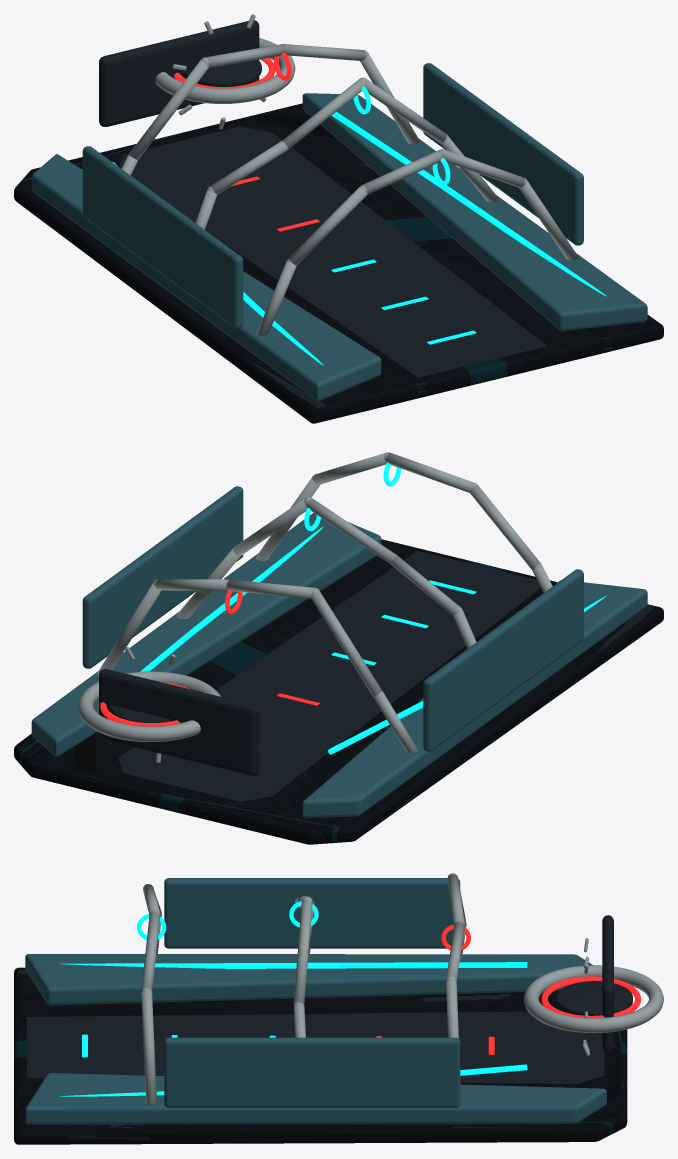
The model's file is pulseBraidedReactorWorldV6.candidate.glb.
3 renders of one model, top to bottom at view 1: azimuth 30°, elevation 25°; view 2: azimuth 150°, elevation 25°; view 3: azimuth 270°, elevation 25°, orthographic. The views are drawn at different scales.
Parts seen in each view (by area): view 1: reactor recessed central cadence trench, reactor continuous textured exchange deck, reactor rising blade shoulder 1, reactor rising blade shoulder -1, reactor full height armor shell -1, reactor full height armor shell 1, reactor terminal armored backstop, reactor terminal breach outer crown, reactor asymmetric torsion knot 2 segment 1, reactor terminal lightless well, reactor asymmetric torsion knot 1 segment 2, reactor asymmetric torsion knot 0 segment 1 (+12 smaller); view 2: reactor recessed central cadence trench, reactor continuous textured exchange deck, reactor rising blade shoulder 1, reactor full height armor shell -1, reactor rising blade shoulder -1, reactor full height armor shell 1, reactor terminal armored backstop, reactor terminal breach outer crown, reactor asymmetric torsion knot 2 segment 1, reactor asymmetric torsion knot 1 segment 2, reactor asymmetric torsion knot 0 segment 1, reactor asymmetric torsion knot 2 segment 4 (+10 smaller); view 3: reactor continuous textured exchange deck, reactor recessed central cadence trench, reactor full height armor shell 1, reactor rising blade shoulder -1, reactor full height armor shell -1, reactor rising blade shoulder 1, reactor terminal breach outer crown, reactor terminal lightless well, reactor terminal armored backstop, reactor asymmetric torsion knot 0 segment 4, reactor asymmetric torsion knot 1 segment 3, reactor continuous cyan artery -1 segment 2 (+7 smaller).
Boxes of the visible parts, x1,y1,x2,y2 form: reactor recessed central cadence trench: (119, 126, 546, 378); reactor continuous textured exchange deck: (14, 103, 663, 423); reactor rising blade shoulder 1: (302, 93, 647, 331); reactor rising blade shoulder -1: (31, 154, 381, 401); reactor full height armor shell -1: (82, 146, 243, 328); reactor full height armor shell 1: (423, 63, 583, 245); reactor terminal armored backstop: (99, 20, 259, 126); reactor terminal breach outer crown: (155, 38, 295, 103); reactor asymmetric torsion knot 2 segment 1: (129, 60, 208, 160); reactor terminal lightless well: (184, 59, 261, 86); reactor asymmetric torsion knot 1 segment 2: (282, 79, 365, 149); reactor asymmetric torsion knot 0 segment 1: (288, 187, 367, 265); reactor recessed central cadence trench: (118, 551, 540, 802); reactor continuous textured exchange deck: (14, 539, 663, 844); reactor rising blade shoulder 1: (31, 512, 381, 756); reactor full height armor shell -1: (423, 569, 583, 751); reactor rising blade shoulder -1: (302, 580, 647, 817); reactor full height armor shell 1: (82, 486, 243, 668); reactor terminal armored backstop: (99, 669, 259, 775); reactor terminal breach outer crown: (77, 671, 220, 741); reactor asymmetric torsion knot 2 segment 1: (311, 591, 382, 696); reactor asymmetric torsion knot 1 segment 2: (306, 498, 396, 563); reactor asymmetric torsion knot 0 segment 1: (469, 485, 540, 570); reactor asymmetric torsion knot 2 segment 4: (97, 583, 161, 676); reactor continuous textured exchange deck: (14, 967, 627, 1144); reactor recessed central cadence trench: (26, 1011, 604, 1084); reactor full height armor shell 1: (164, 1037, 460, 1107); reactor rising blade shoulder -1: (25, 954, 592, 1005); reactor full height armor shell -1: (164, 878, 460, 948); reactor rising blade shoulder 1: (25, 1073, 606, 1124); reactor terminal breach outer crown: (524, 965, 663, 1033); reactor terminal lightless well: (556, 981, 632, 1015); reactor terminal armored backstop: (602, 915, 613, 1052); reactor asymmetric torsion knot 0 segment 4: (141, 991, 156, 1104); reactor asymmetric torsion knot 1 segment 3: (293, 900, 312, 1003); reactor continuous cyan artery -1 segment 2: (339, 962, 527, 968).
Size of the model in its own units: 9.4 by 4.73 by 15.58.
6 materials, 1 textured.
